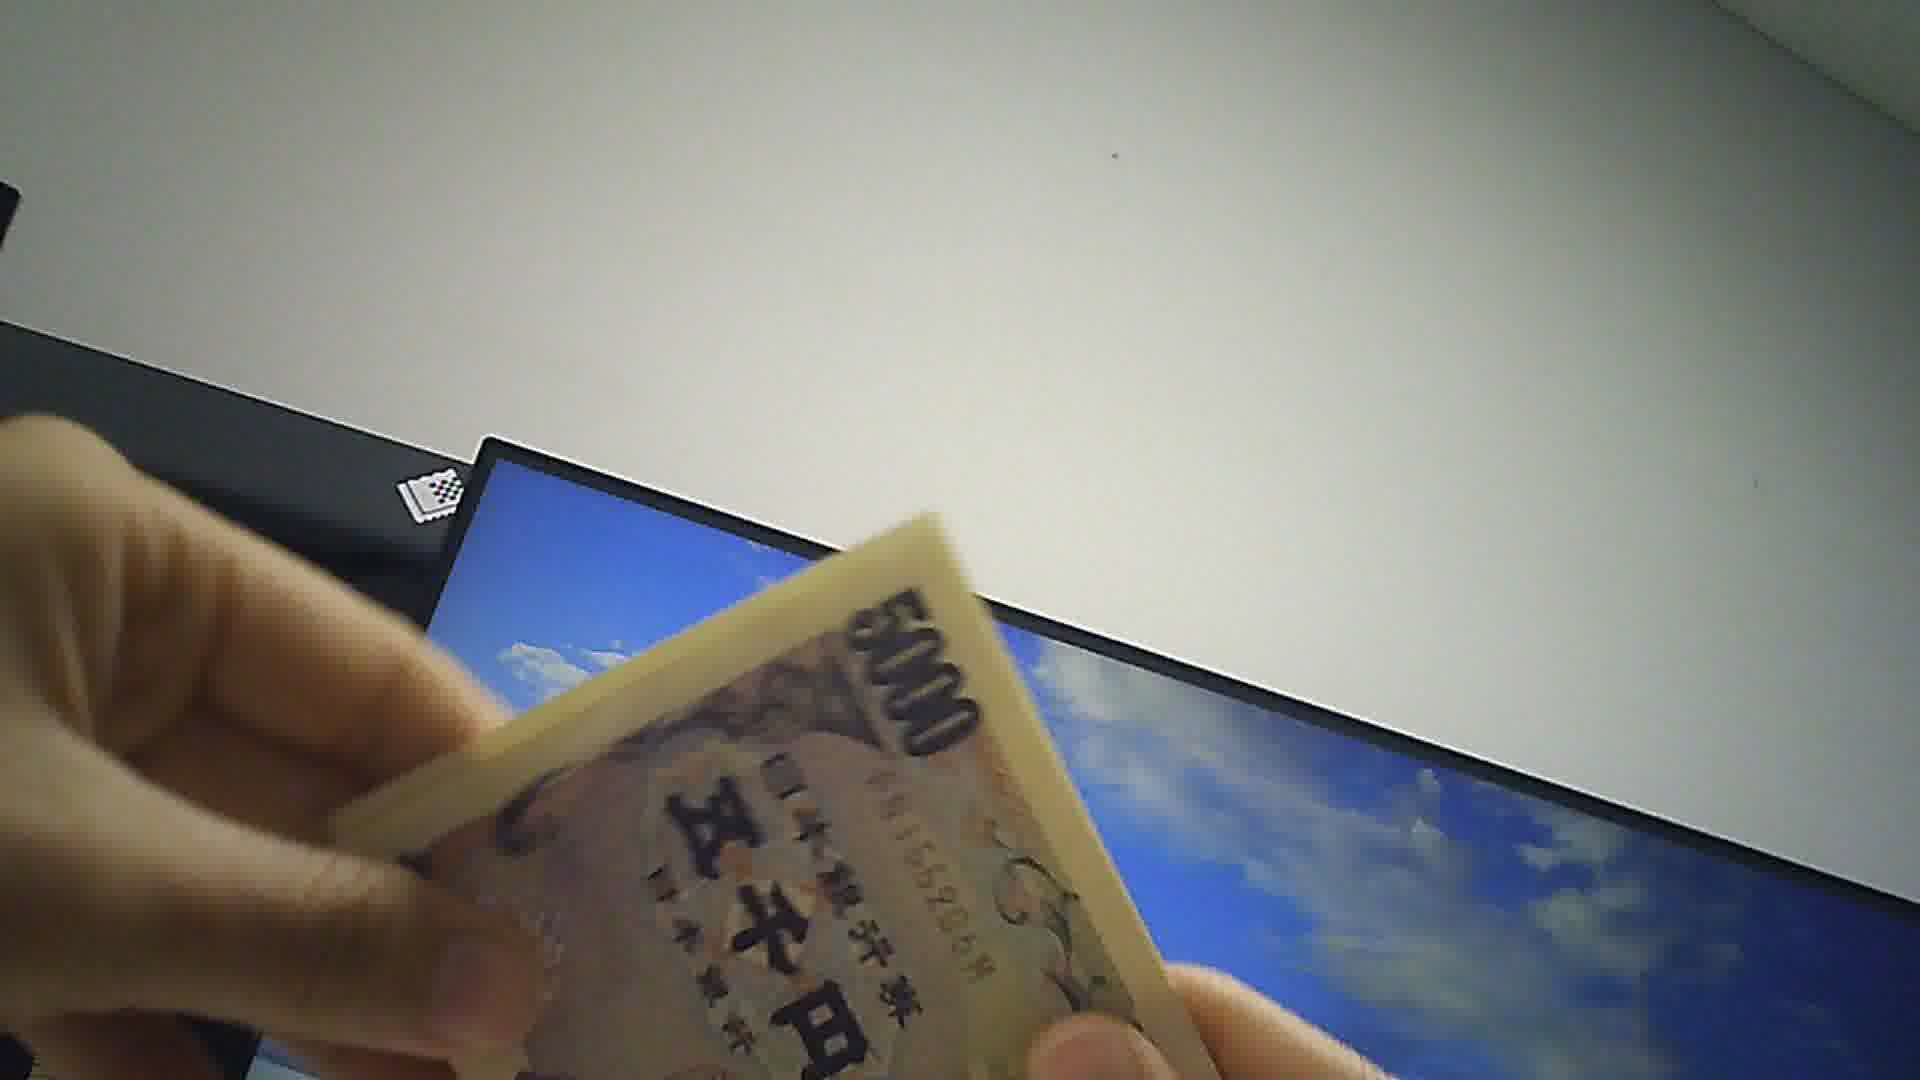5,000 Yen: (306, 505, 1212, 1079)
